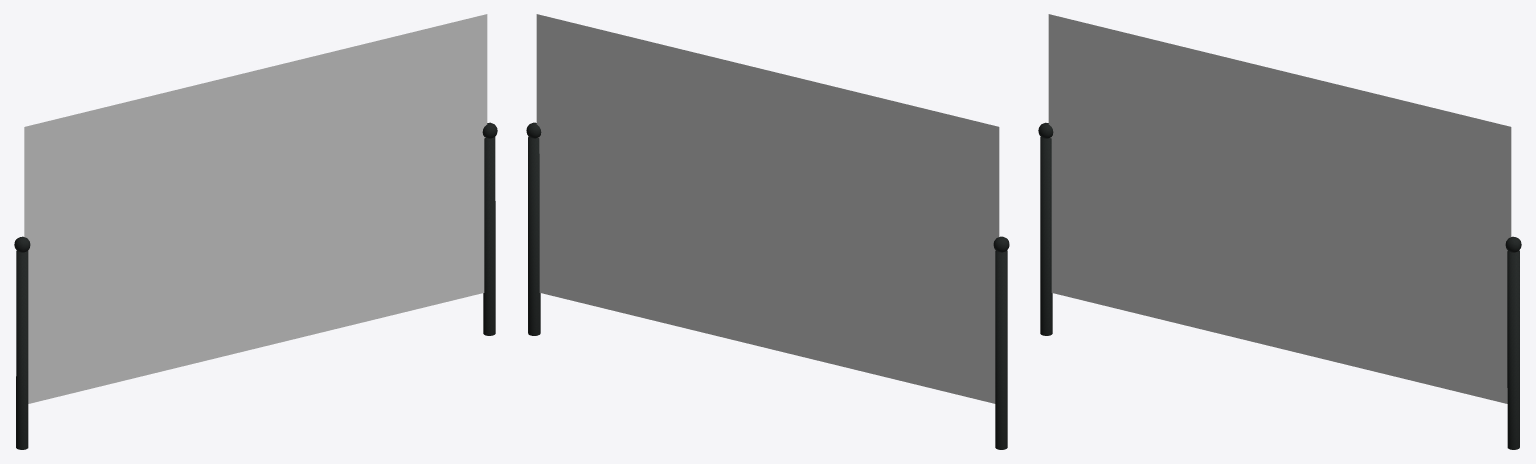
File: FencesGates.fbx
3 views of the same model, side by side, from view 1: azimuth 30°, elevation 25°; view 2: azimuth 150°, elevation 25°; view 3: azimuth 330°, elevation 25° (orthographic).
Visible parts, largest first — view 1: Plane.001, Low_Wall_LOD0.003; view 2: Plane.001, Low_Wall_LOD0.003; view 3: Plane.001, Low_Wall_LOD0.003.
Part boxes in pixels (left/top/right/bottom): Plane.001: left=24, top=14, right=487, bottom=403; Low_Wall_LOD0.003: left=14, top=122, right=497, bottom=449; Plane.001: left=536, top=14, right=999, bottom=403; Low_Wall_LOD0.003: left=526, top=122, right=1009, bottom=449; Plane.001: left=1048, top=14, right=1511, bottom=403; Low_Wall_LOD0.003: left=1038, top=122, right=1521, bottom=449.
Bounding box in the file's own units: 963 × 612 × 27.56.
Materials: 2 (1 with a texture image).
